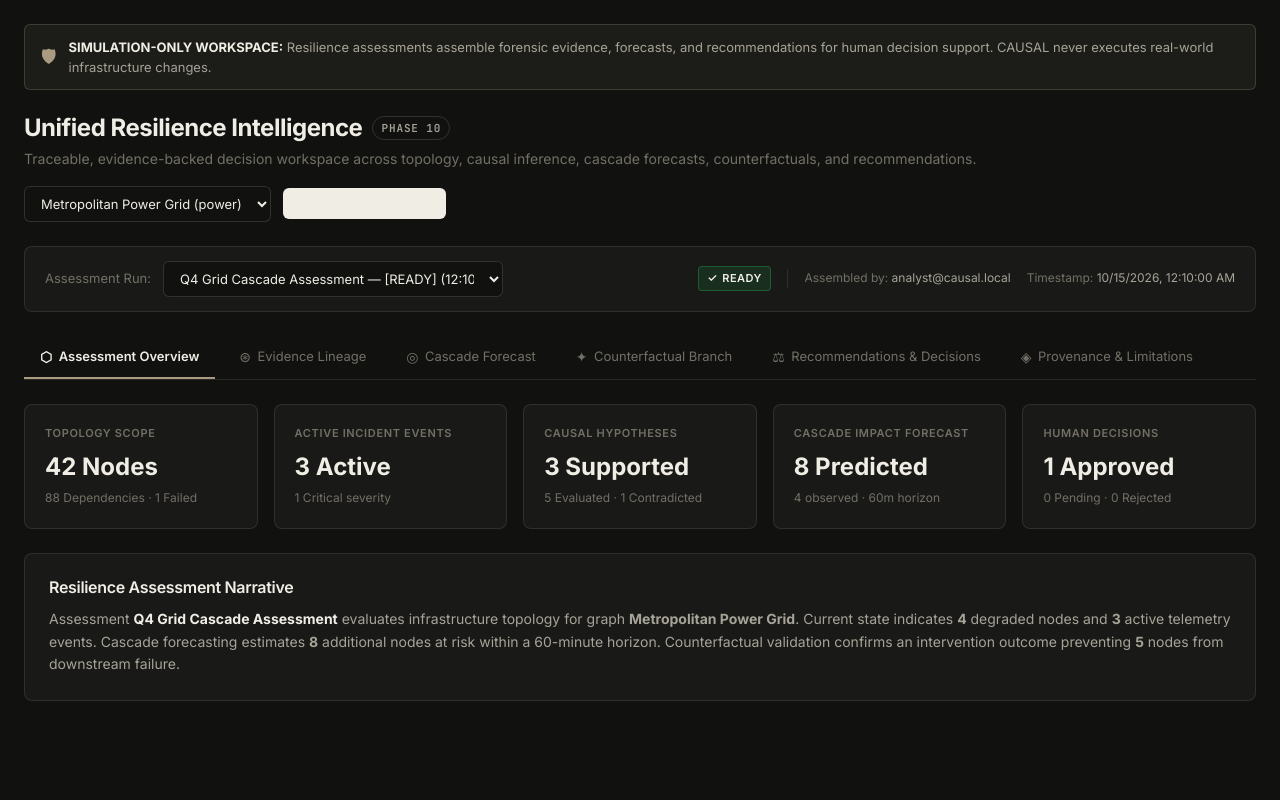
Test: Unified Resilience Intelligence Workspace (/app/assessments) › switches to Cascade Forecast tab and distinguishes observed from predicted nodes
Click the tab with test id "tab-forecast" at x=471, y=357, box [390, 336, 552, 379]
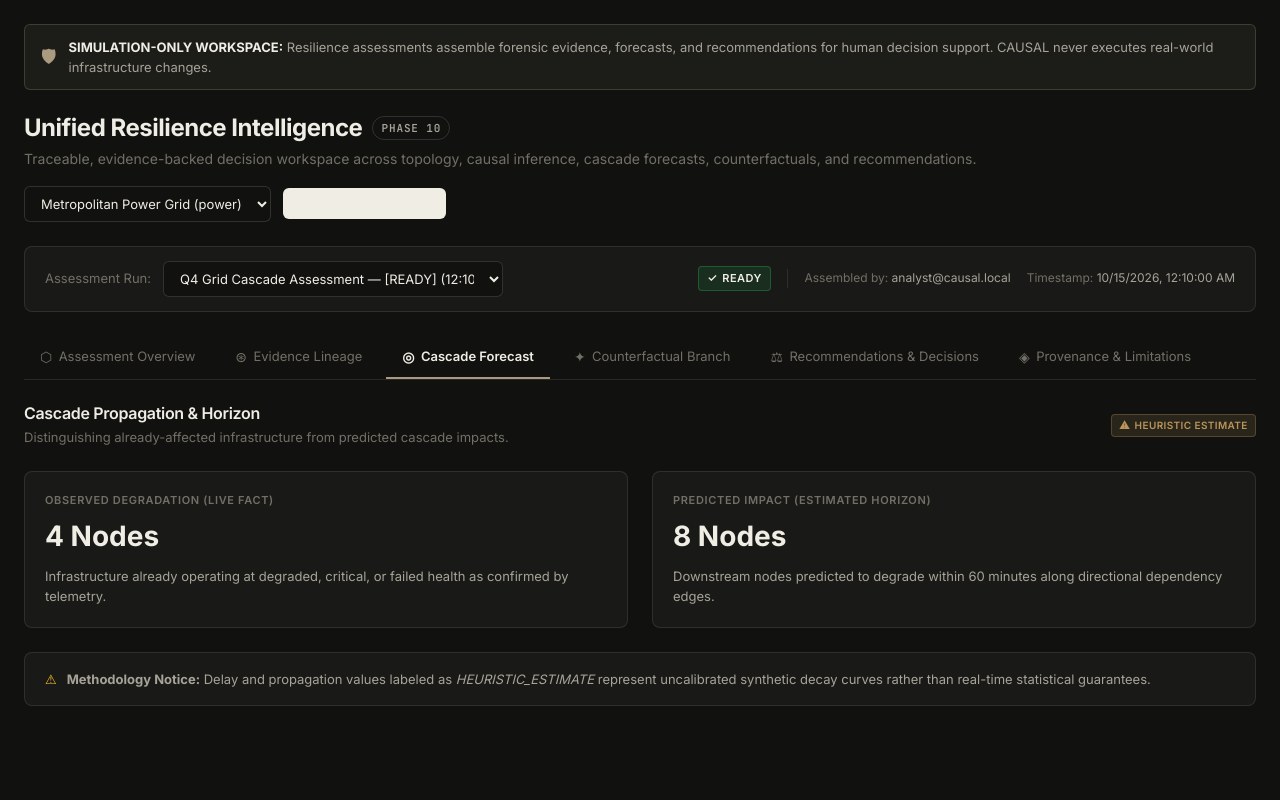
Result: the heading "Cascade Propagation & Horizon" is shown at [24, 403, 260, 423]
Result: the text with test id "observed-affected-count" reads "4 Nodes" at [45, 519, 159, 553]
Result: the text with test id "predicted-affected-count" reads "8 Nodes" at [673, 519, 786, 553]
